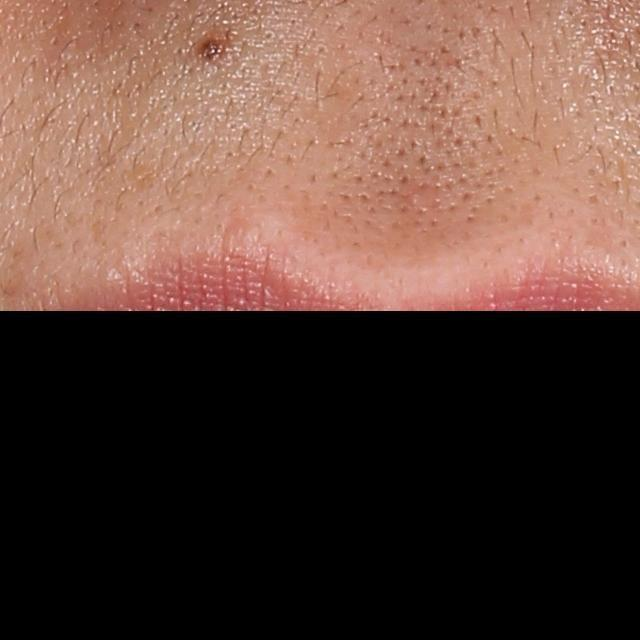nevus: (194, 34, 229, 66)
